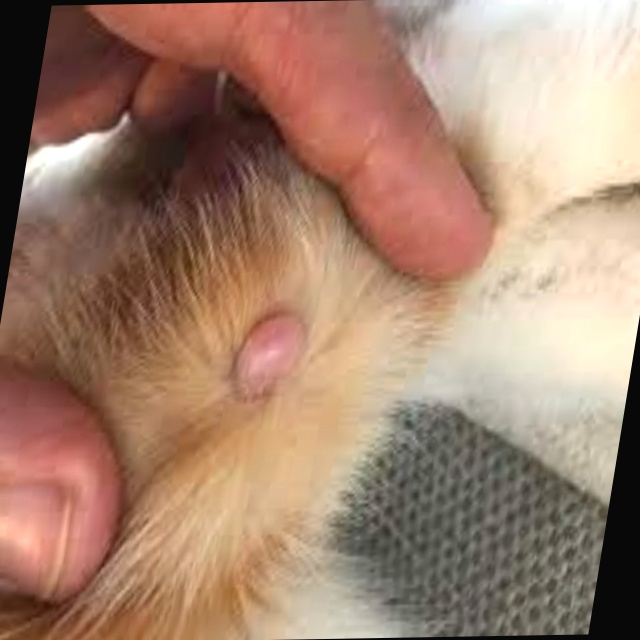lump_and_bump: (226, 314, 312, 398)
